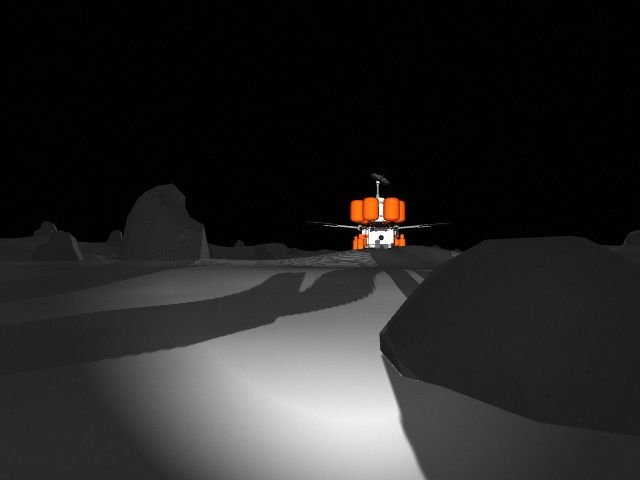homebase: (295, 172, 455, 262)
